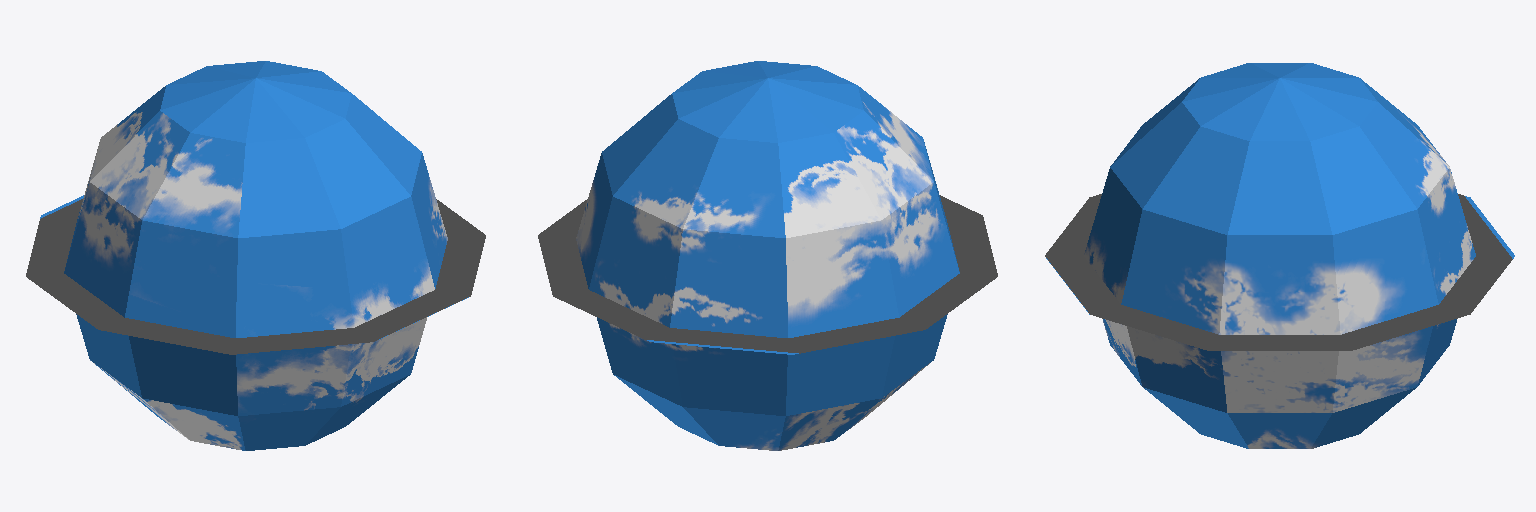
3 views of the same model, side by side, from view 1: azimuth 30°, elevation 25°; view 2: azimuth 150°, elevation 25°; view 3: azimuth 270°, elevation 25° (orthographic).
Visible parts, largest first — view 1: 球; view 2: 球; view 3: 球.
Boxes of the visible parts, box(x1,y1,x2,y2) form: 球: box(26, 61, 485, 450); 球: box(538, 61, 997, 450); 球: box(1045, 63, 1514, 448).
Size of the model in its own units: 5.71 by 5 by 6.
Materials: 1 (1 with a texture image).